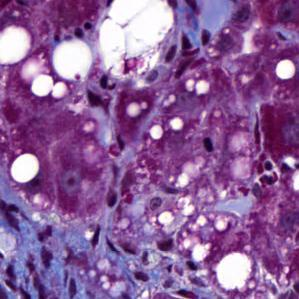ballooning: (98, 4, 177, 87)
